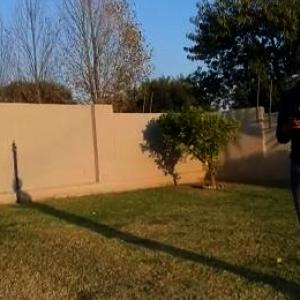follow: (273, 20, 300, 294)
